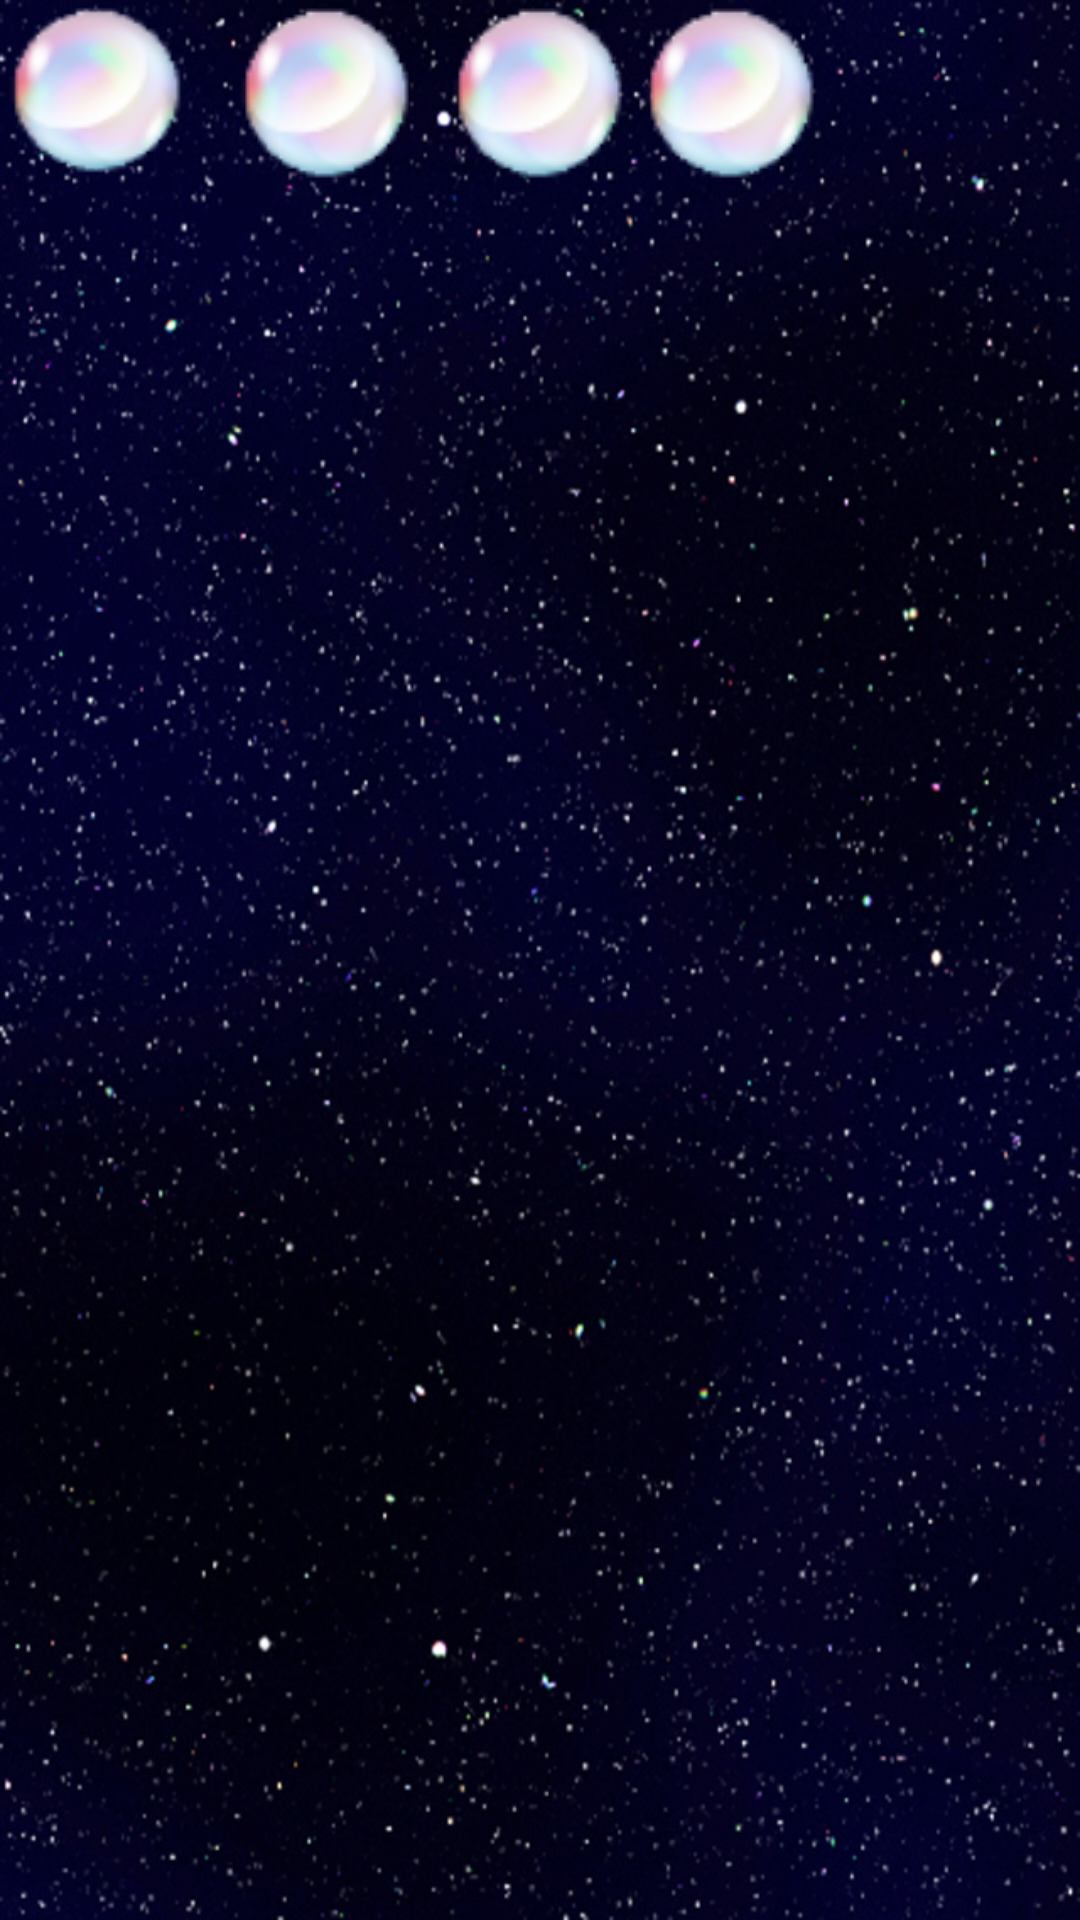

Screen size 1080w x 1920h. Icon name, then its center in pixels as (x=x, y=y):
bubblebtn: (x=97, y=93), (x=327, y=96), (x=540, y=96), (x=732, y=94)
